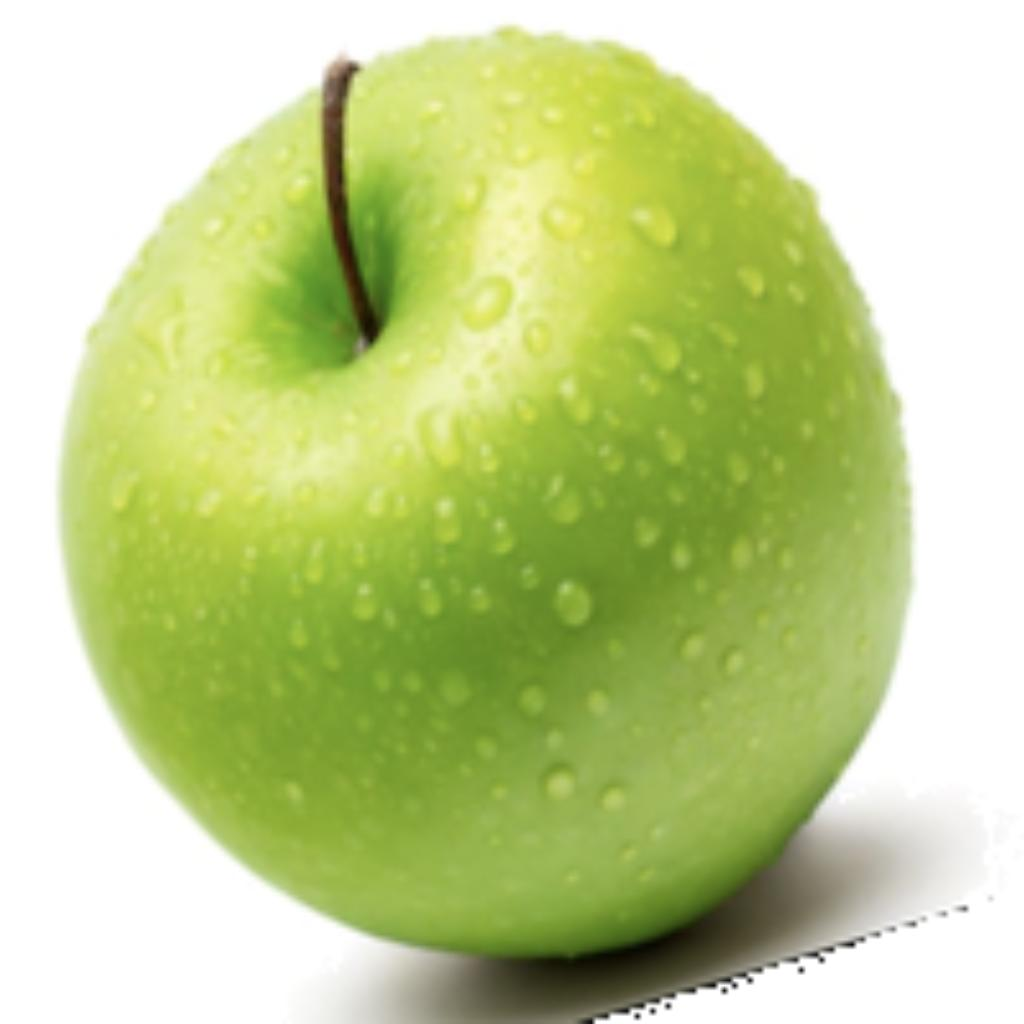apple: (51, 16, 1014, 1019)
